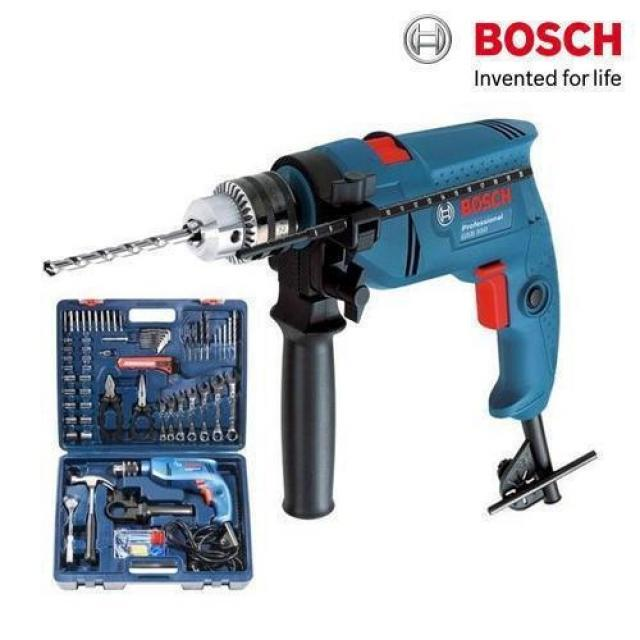drill: (42, 117, 563, 519), (52, 294, 256, 596), (111, 455, 241, 550)
